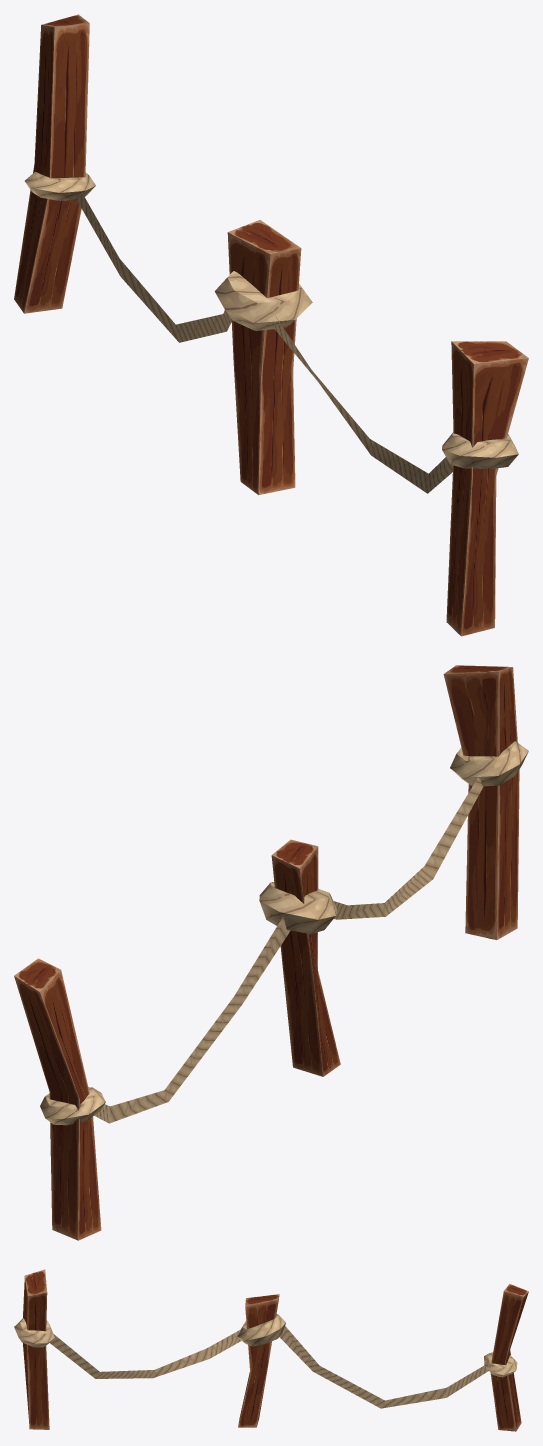
The model's file is SM_PROP_railing_v02_01.fbx.
3 renders of one model, top to bottom at view 1: azimuth 30°, elevation 25°; view 2: azimuth 150°, elevation 25°; view 3: azimuth 270°, elevation 25°, orthographic. The views are drawn at different scales.
Parts seen in each view (by area): view 1: SM_PROP_railing_v02_01; view 2: SM_PROP_railing_v02_01; view 3: SM_PROP_railing_v02_01.
Part boxes in pixels (<box>): SM_PROP_railing_v02_01: <box>14,14,528,636</box>; SM_PROP_railing_v02_01: <box>14,665,528,1240</box>; SM_PROP_railing_v02_01: <box>14,1269,528,1431</box>.
Bounding box in the file's own units: 37.93 × 104 × 318.
